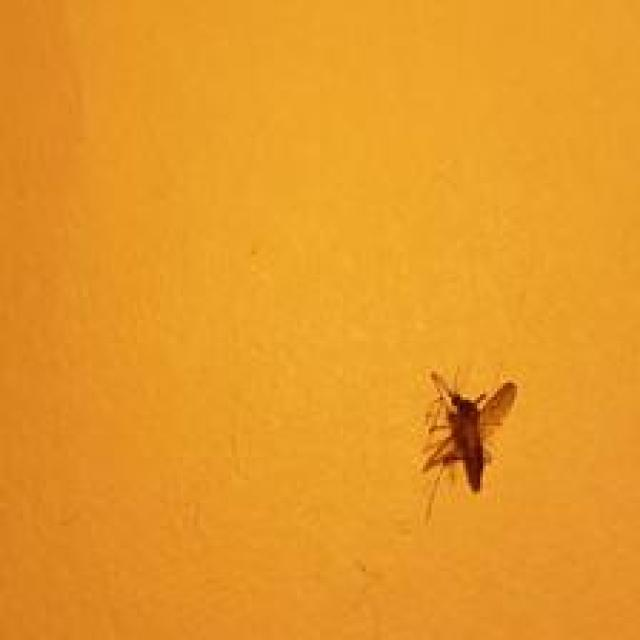Culex: (418, 366, 518, 520)
